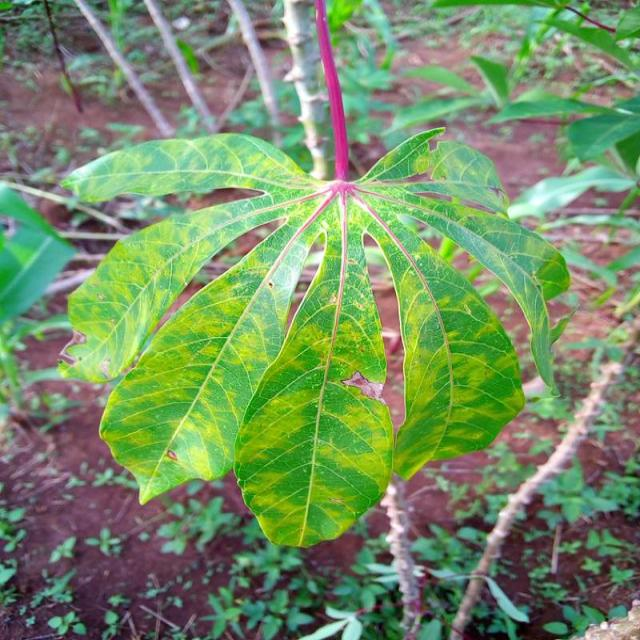cassava leaf: (58, 1, 571, 548), (231, 205, 395, 548)
